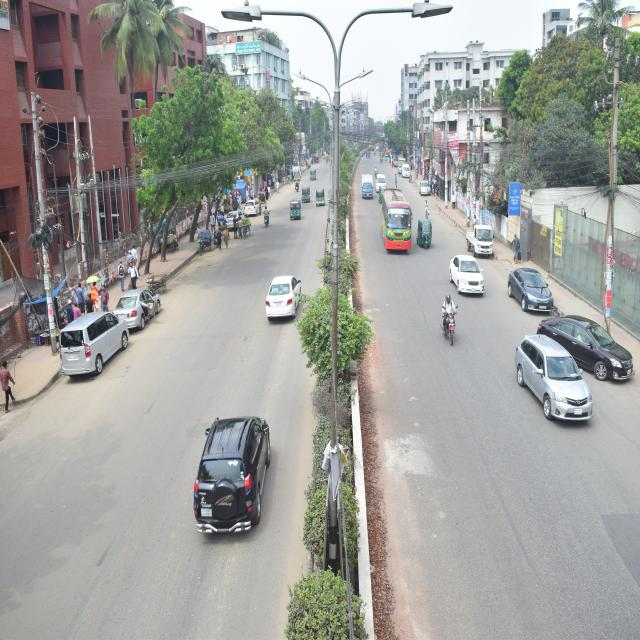car: (181, 385, 281, 541), (512, 321, 610, 434), (530, 310, 640, 383), (56, 308, 136, 385), (252, 260, 308, 331), (503, 255, 560, 318), (107, 280, 171, 330), (444, 243, 486, 304), (212, 207, 252, 240), (240, 192, 268, 228), (366, 164, 388, 197), (419, 170, 439, 203)
motorbike: (426, 274, 462, 350), (263, 199, 271, 240), (294, 176, 304, 199)
pickup-van: (463, 210, 502, 269), (355, 172, 381, 207), (398, 153, 412, 185)
